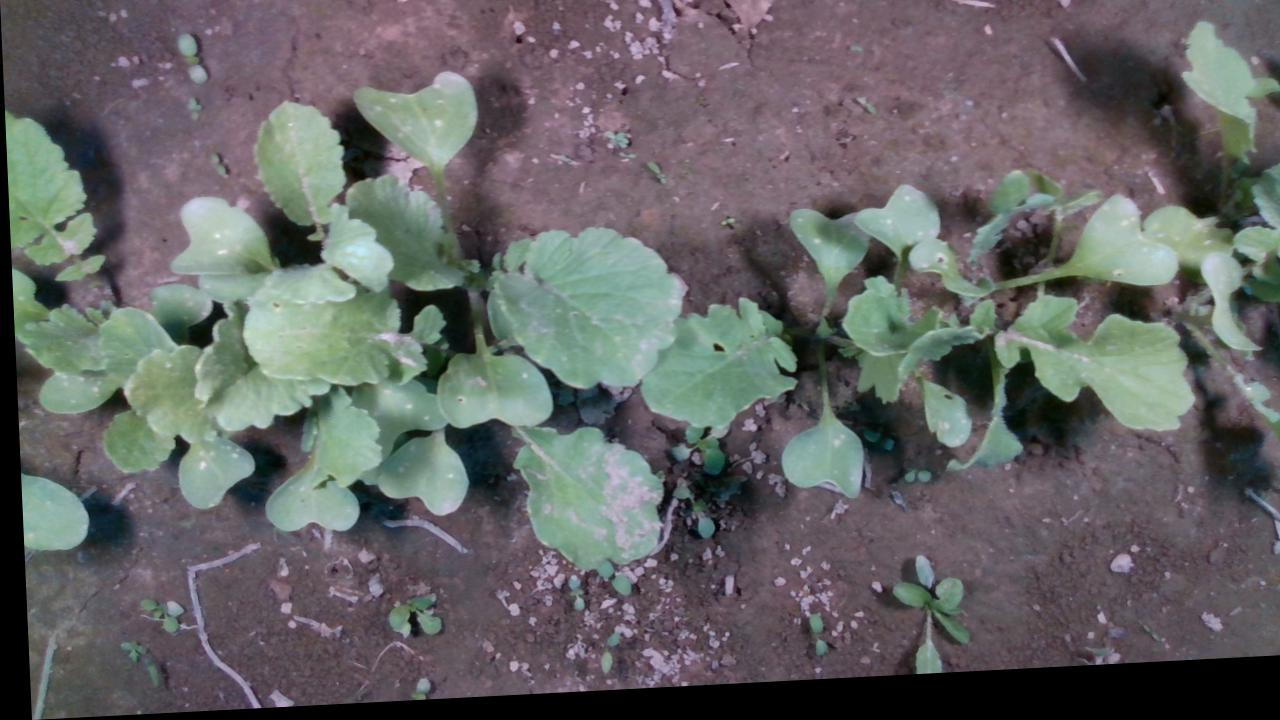weed: (174, 32, 208, 87), (130, 598, 173, 636), (591, 635, 616, 678), (801, 620, 822, 665), (561, 578, 579, 618), (206, 151, 227, 182), (644, 164, 664, 193), (183, 96, 203, 123), (716, 222, 732, 234)
